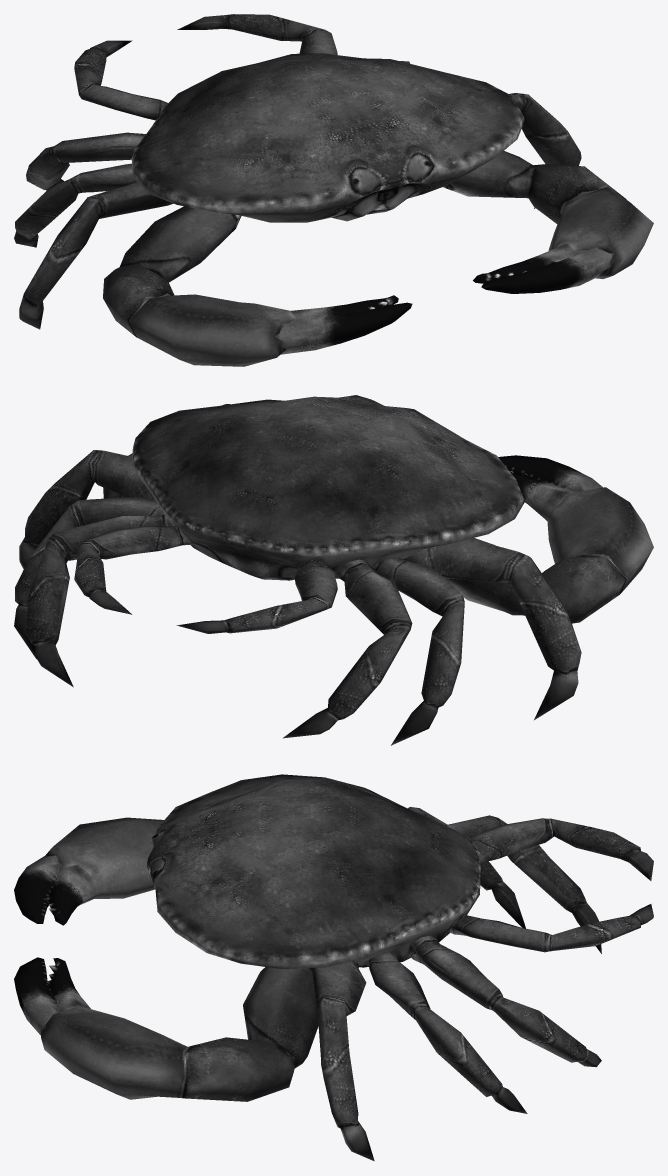
File: Crab.fbx
3 views of the same model, one above another, from view 1: azimuth 30°, elevation 25°; view 2: azimuth 150°, elevation 25°; view 3: azimuth 270°, elevation 25° (orthographic). The views are drawn at different scales.
Parts seen in each view (by area): view 1: Crab:Mesh; view 2: Crab:Mesh; view 3: Crab:Mesh.
Part boxes in pixels (x1,y1,x2,y2): Crab:Mesh: (14,14,653,366); Crab:Mesh: (14,395,653,745); Crab:Mesh: (14,774,653,1161).
Size of the model in its own units: 7.97 by 2.97 by 7.57.
